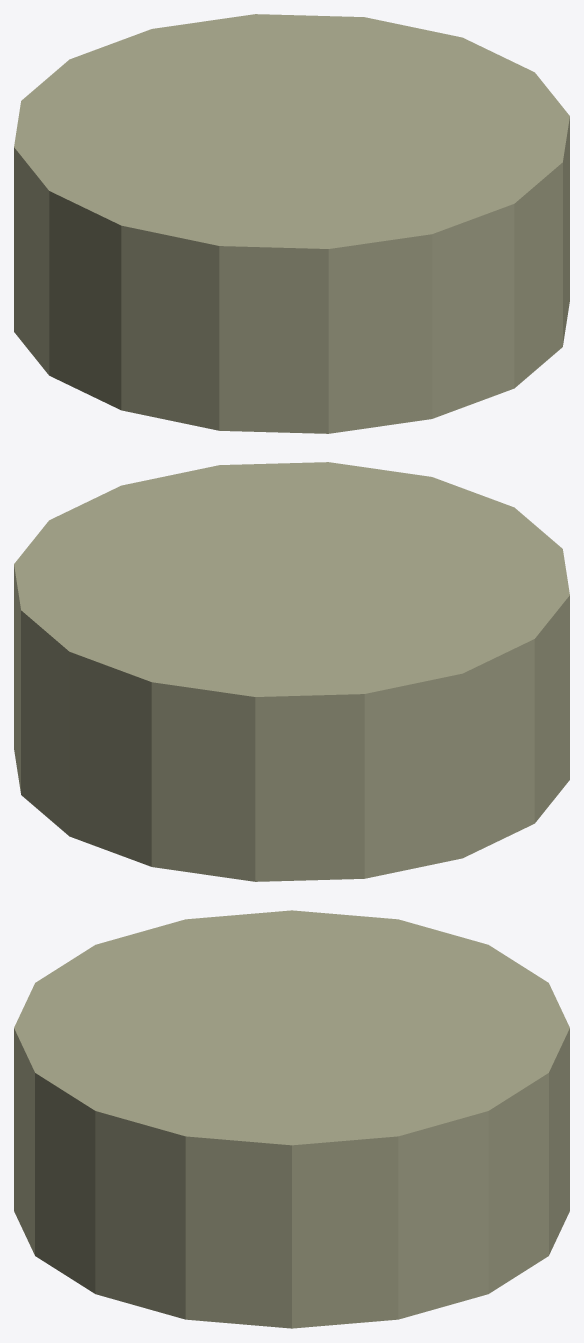
Rendered from mat_metal_stator_1.glb.
3 renders of one model, top to bottom at view 1: azimuth 30°, elevation 25°; view 2: azimuth 150°, elevation 25°; view 3: azimuth 270°, elevation 25°, orthographic.
Visible parts, largest first — view 1: geometry_0; view 2: geometry_0; view 3: geometry_0.
Boxes of the visible parts, <box> form: geometry_0: <box>14,14,569,433</box>; geometry_0: <box>14,462,569,881</box>; geometry_0: <box>14,910,569,1328</box>.
Size of the model in its own units: 0.011 by 0.004 by 0.011.
